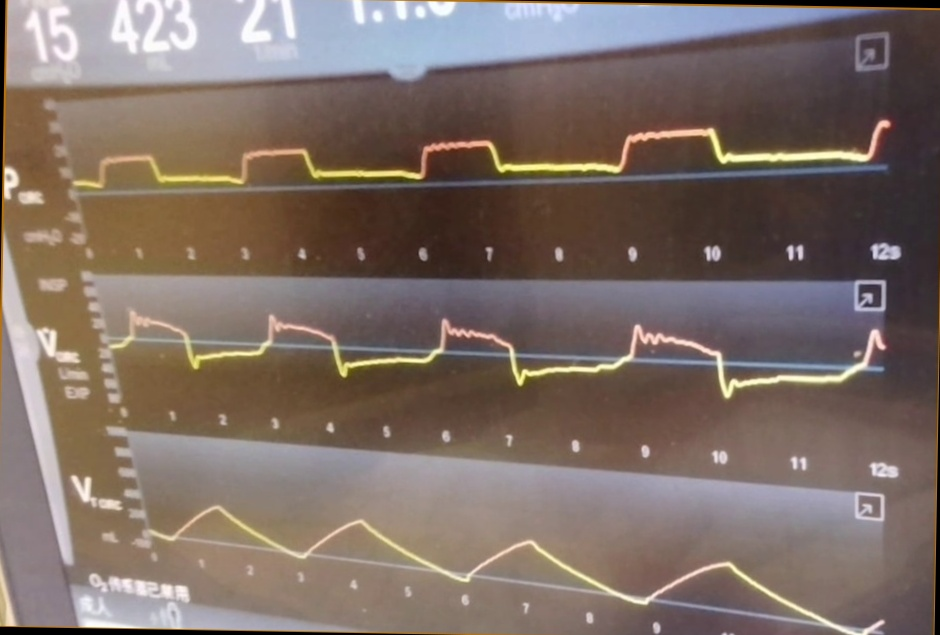Accumulation Flow: (99, 272, 883, 405)
Volume: (149, 478, 892, 634)
